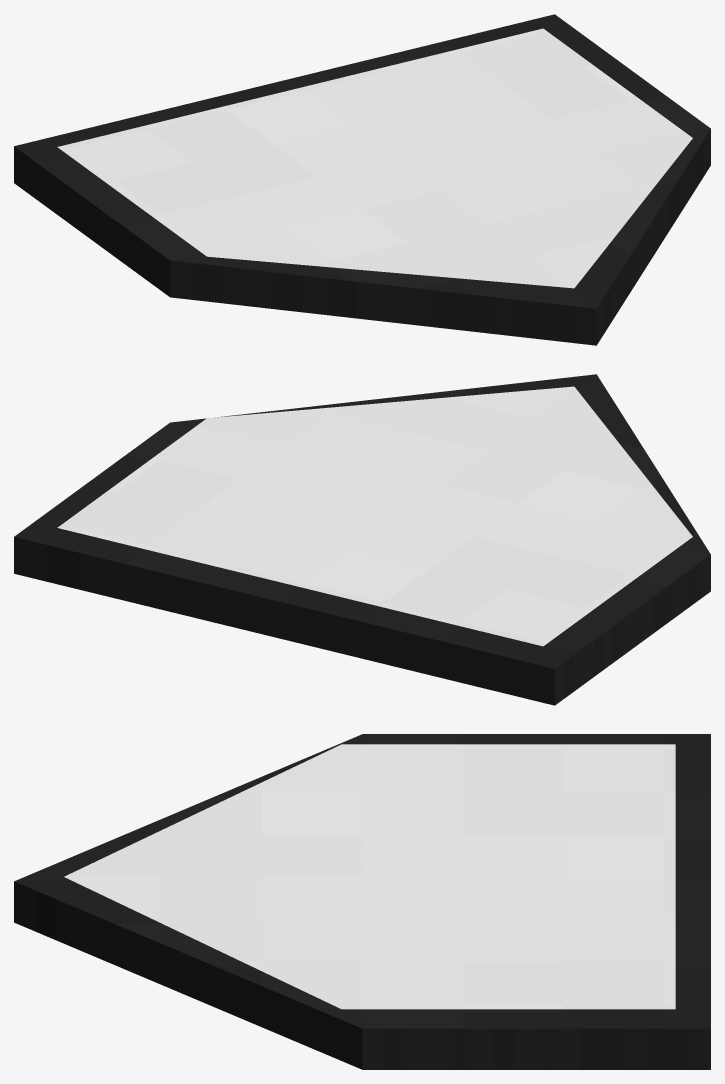
The model's file is home_plate_centred.obj.
The picture shows the model from 3 angles, top to bottom: view 1: azimuth 30°, elevation 25°; view 2: azimuth 150°, elevation 25°; view 3: azimuth 270°, elevation 25°; orthographic projection. The views are drawn at different scales.
Parts seen in each view (by area): view 1: home_plate_centred; view 2: home_plate_centred; view 3: home_plate_centred.
Boxes of the visible parts, left/top/right/bottom form: home_plate_centred: left=14, top=14, right=710, bottom=345; home_plate_centred: left=14, top=374, right=710, bottom=705; home_plate_centred: left=14, top=734, right=710, bottom=1069.
Size of the model in its own units: 0.4318 by 0.0312 by 0.4318.
